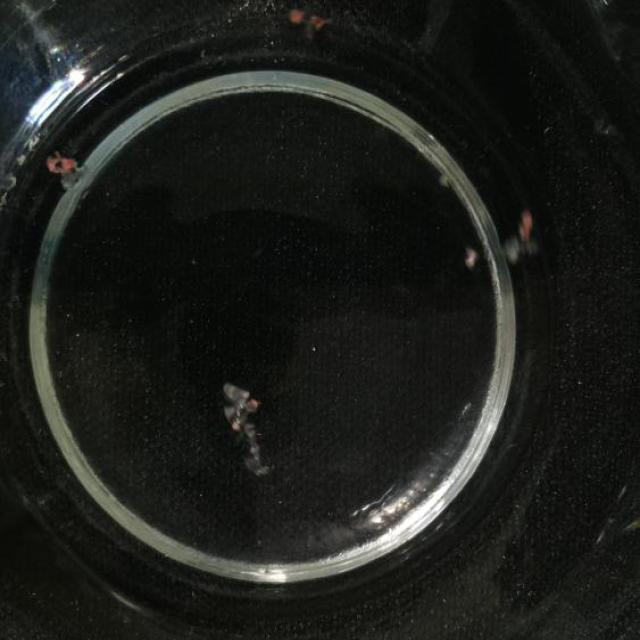fiber: (218, 379, 272, 483), (460, 213, 544, 270), (284, 5, 336, 50), (47, 152, 95, 195)
